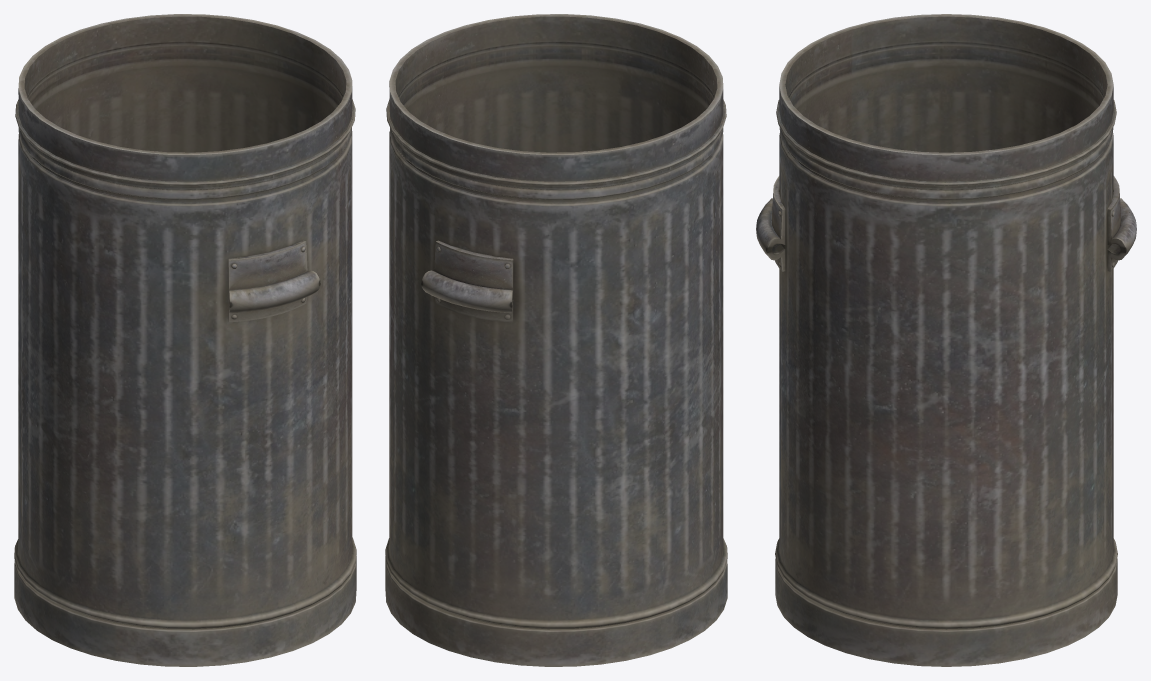
Rendered from metal_trash_can__metal_trash_can.obj.
3 views of the same model, side by side, from view 1: azimuth 30°, elevation 25°; view 2: azimuth 150°, elevation 25°; view 3: azimuth 270°, elevation 25° (orthographic).
Visible parts, largest first — view 1: metal_trash_can; view 2: metal_trash_can; view 3: metal_trash_can.
Boxes of the visible parts, x1,y1,x2,y2 form: metal_trash_can: (14, 14, 356, 666); metal_trash_can: (385, 14, 727, 666); metal_trash_can: (756, 14, 1136, 666).
Size of the model in its own units: 0.5524 by 0.9062 by 0.6134.
1 material, 1 textured.
